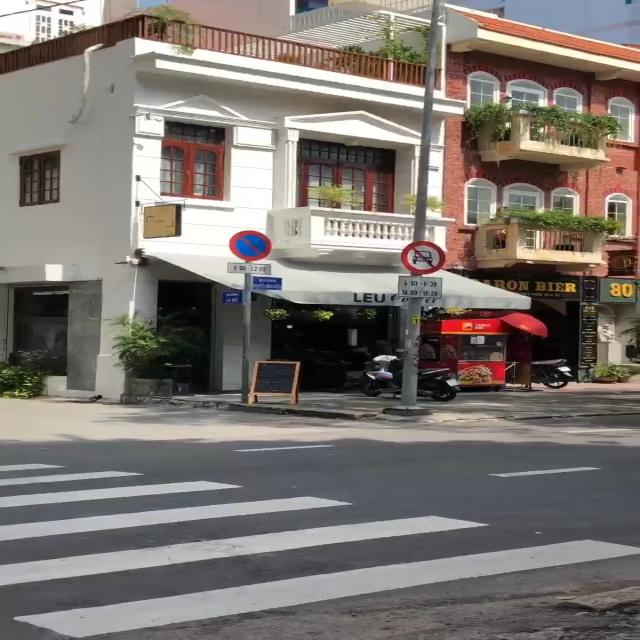Bien bao cam do xe: (224, 226, 276, 262)
Bien bao cam xe oto: (398, 238, 448, 276)
